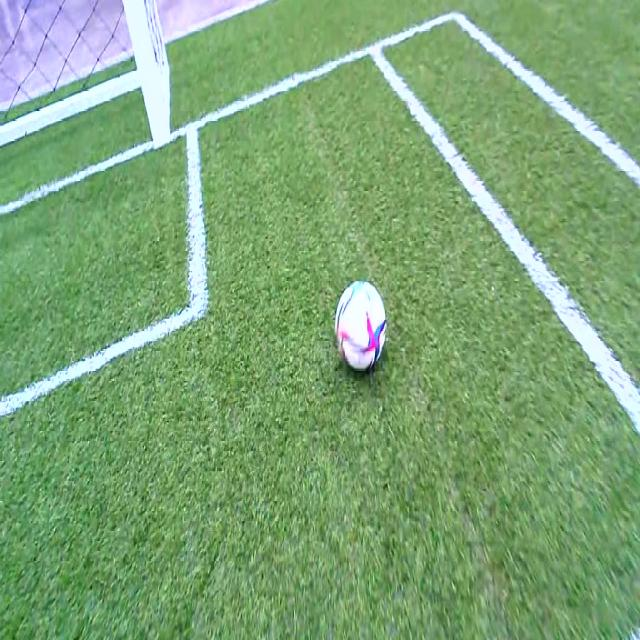ball: (335, 281, 385, 369)
